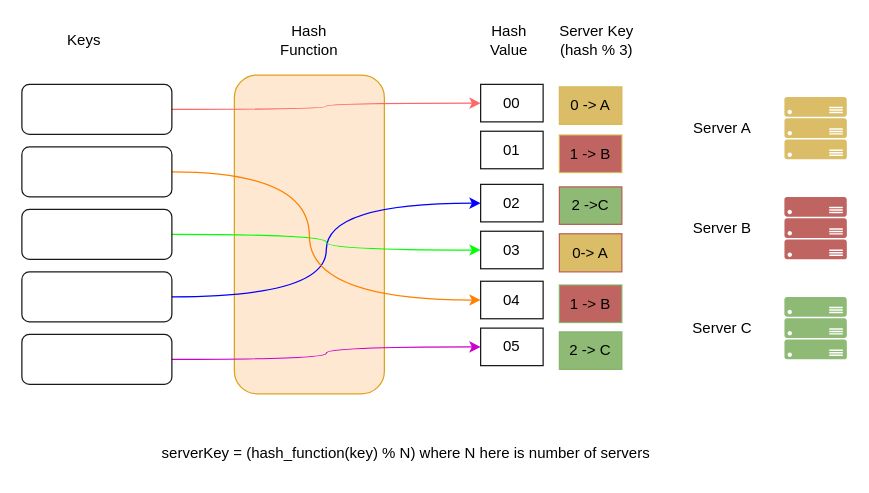
Some shapes in this 869 by 493 pixel diagram are drawn without their labels. The centre of each missing label's shape, as x and y in pixels:
"Carrot Cake" goes at pixel 96 108.
"Coffee Cake" goes at pixel 96 171.
"Muffin" goes at pixel 96 358.
"Pastel De Nata" goes at pixel 96 296.
"Scone" goes at pixel 96 233.
